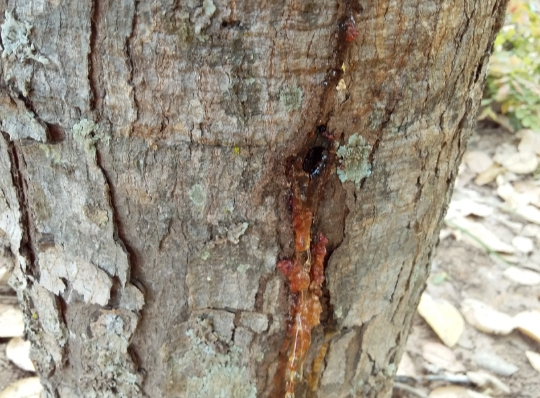Apate terebrans: (284, 138, 340, 183)
